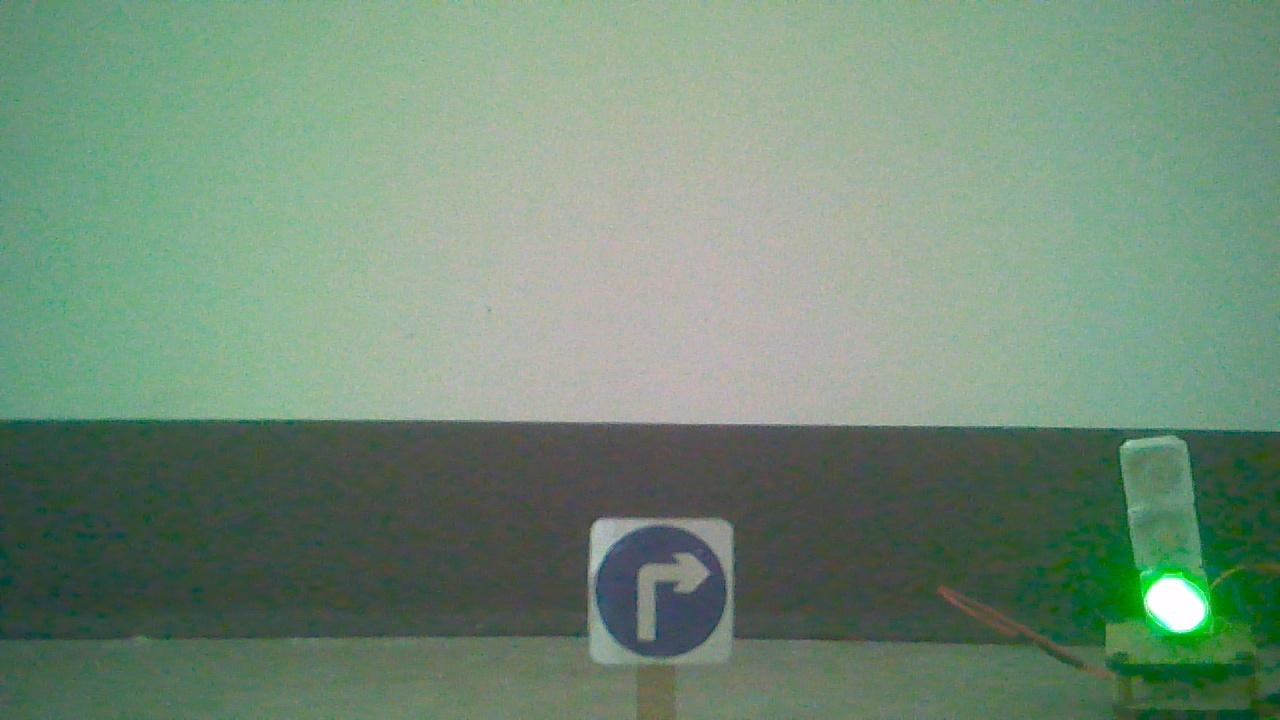green: (1117, 432, 1215, 627)
turn: (592, 517, 730, 658)
